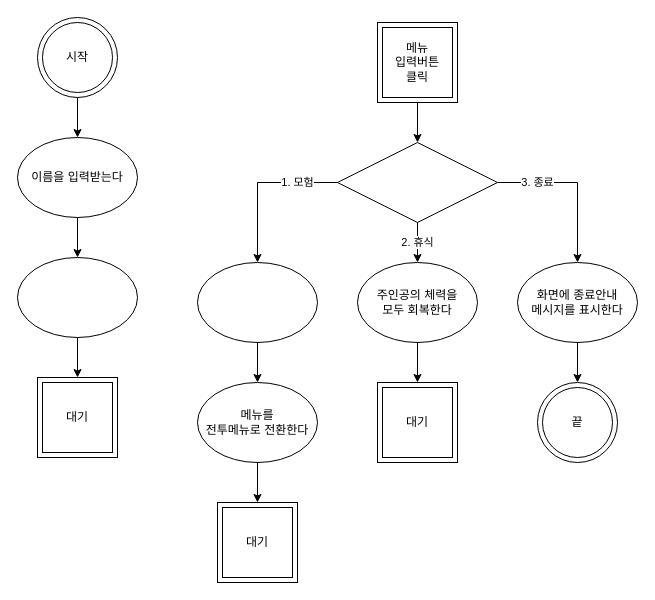
The diagram is 655 pixels wide and 600 high, and some of its shapes have lost their labels. The box of each missing label's shape, as (x1, y1, x2, y2) in pixels:
몇 번인가?: (336, 142, 498, 222)
적을 생성한다: (196, 262, 318, 342)
주인공을 생성한다: (16, 256, 138, 338)
